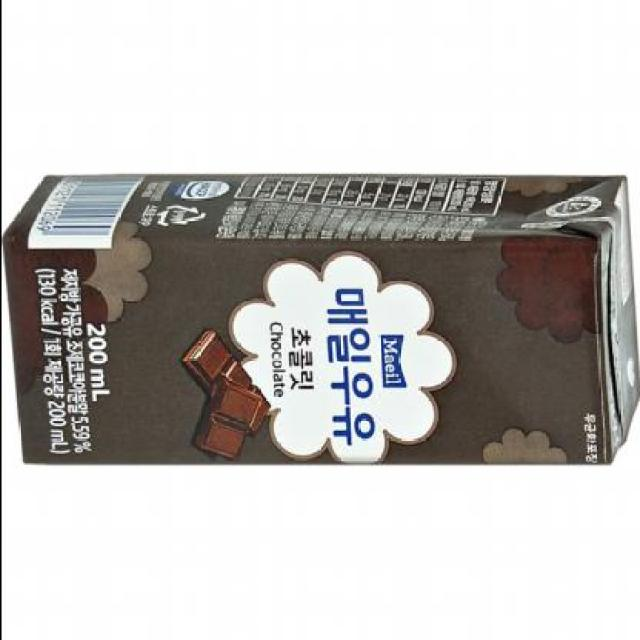tetra: (1, 108, 638, 528)
